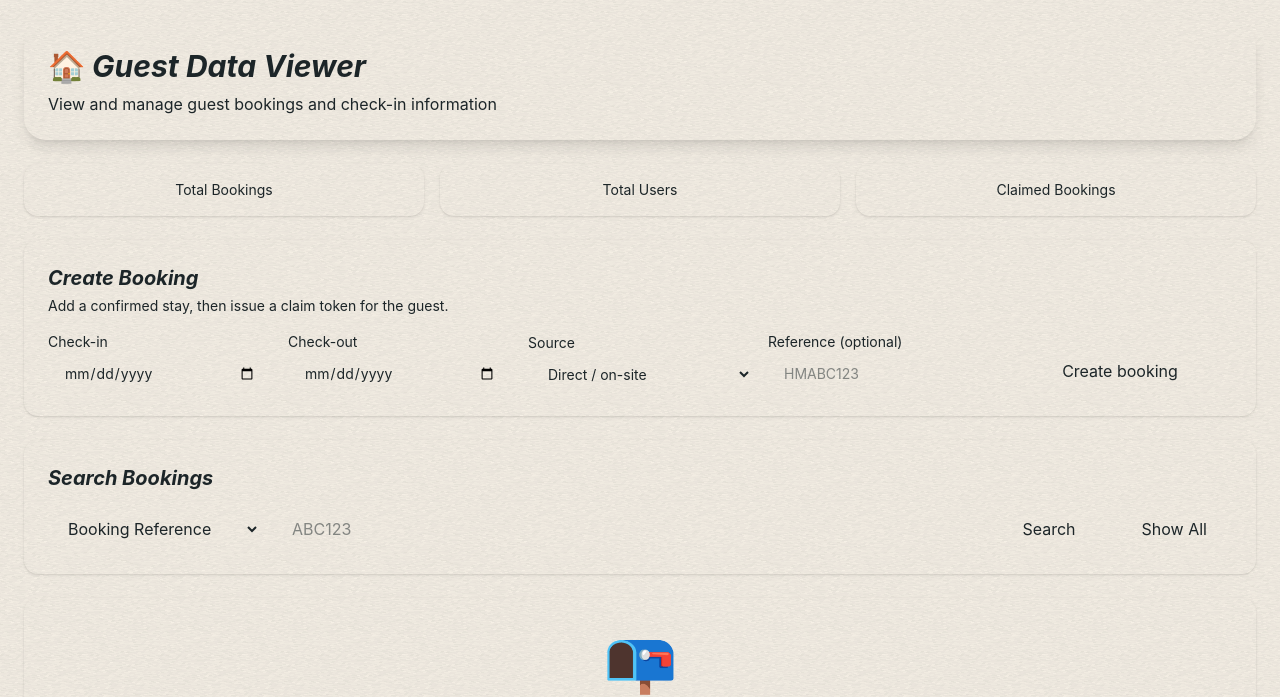
Test: admin guests create booking › still shows the server message when the rejection has no validation issues
This screenshot has width=1280, height=697.
Type "2026-11-01" into the date field labelled "Check-in" at (160,374), box x1=48 y1=356 x2=272 y2=392
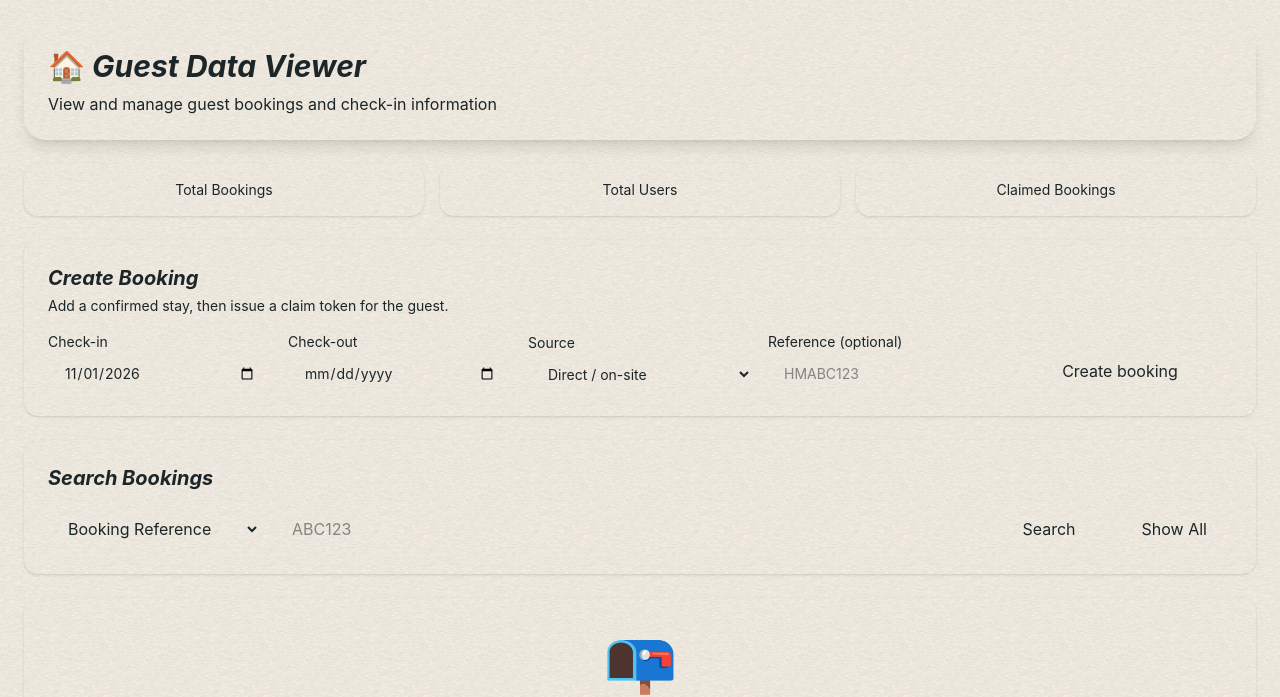
Type "2026-11-05" into the date field labelled "Check-out" at (400,374), box x1=288 y1=356 x2=512 y2=392
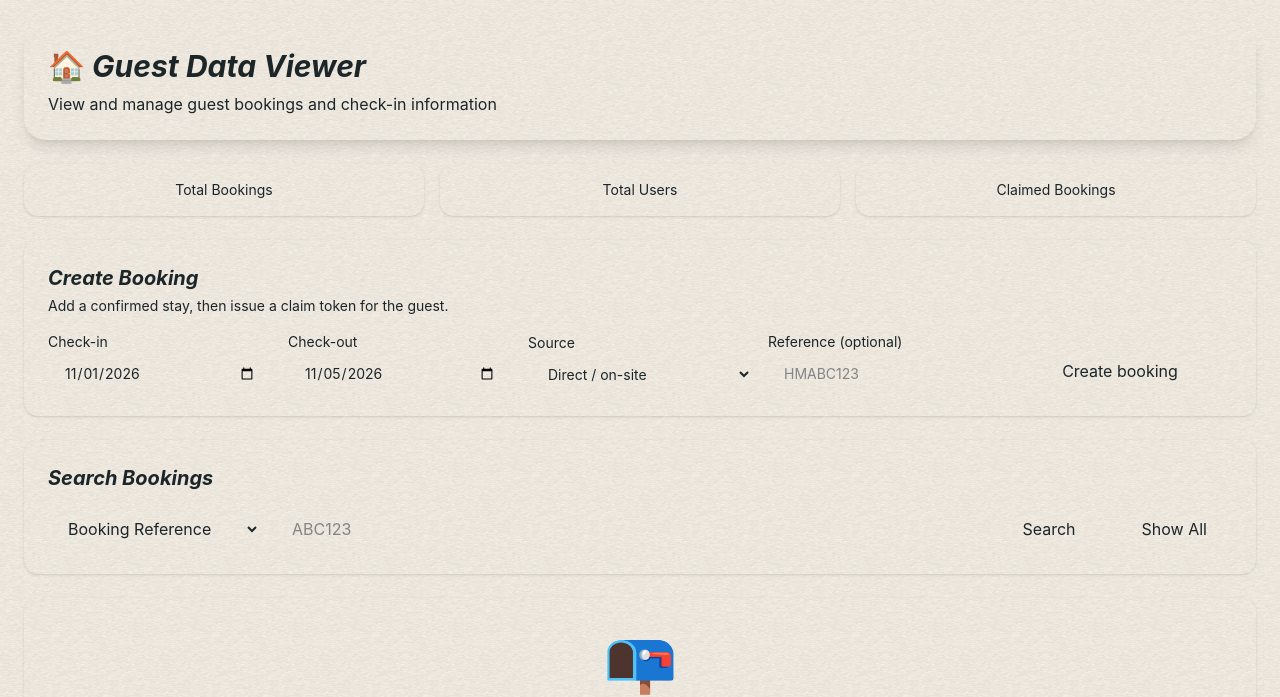
Click the button "Create booking" at (1120,371), box x1=1008 y1=350 x2=1232 y2=392
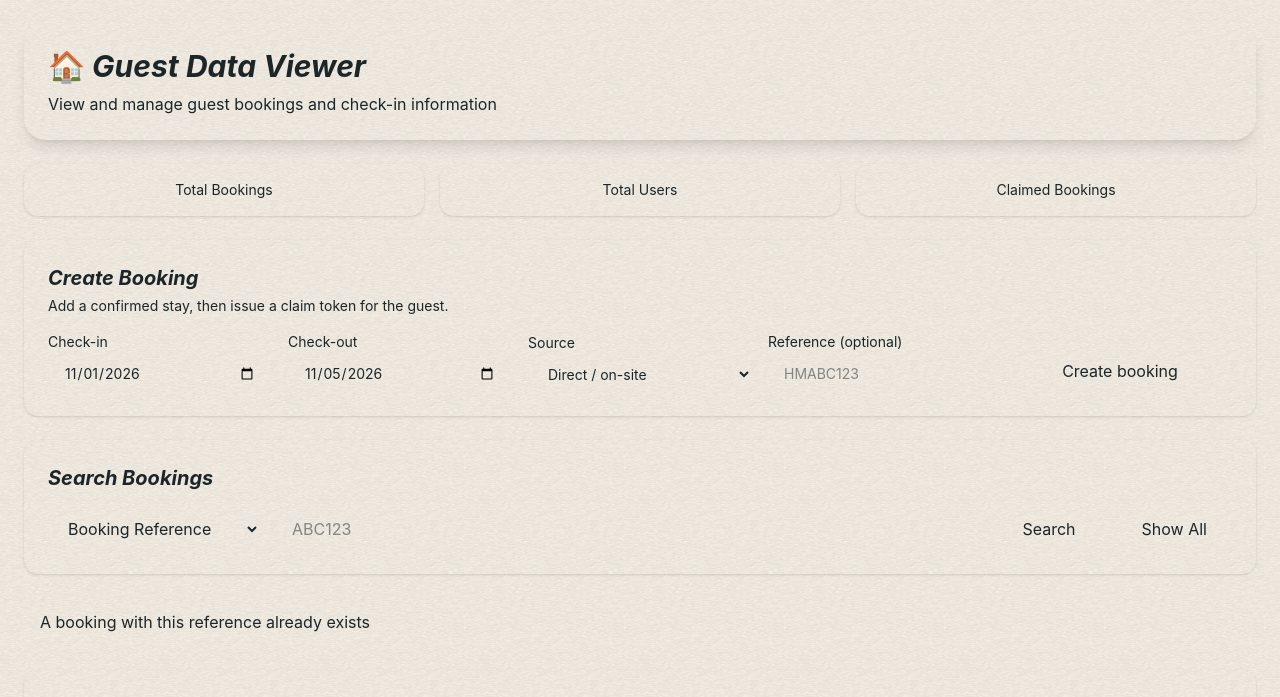
Result: the text "A booking with this reference already exists" is shown at x1=40 y1=612 x2=370 y2=632
